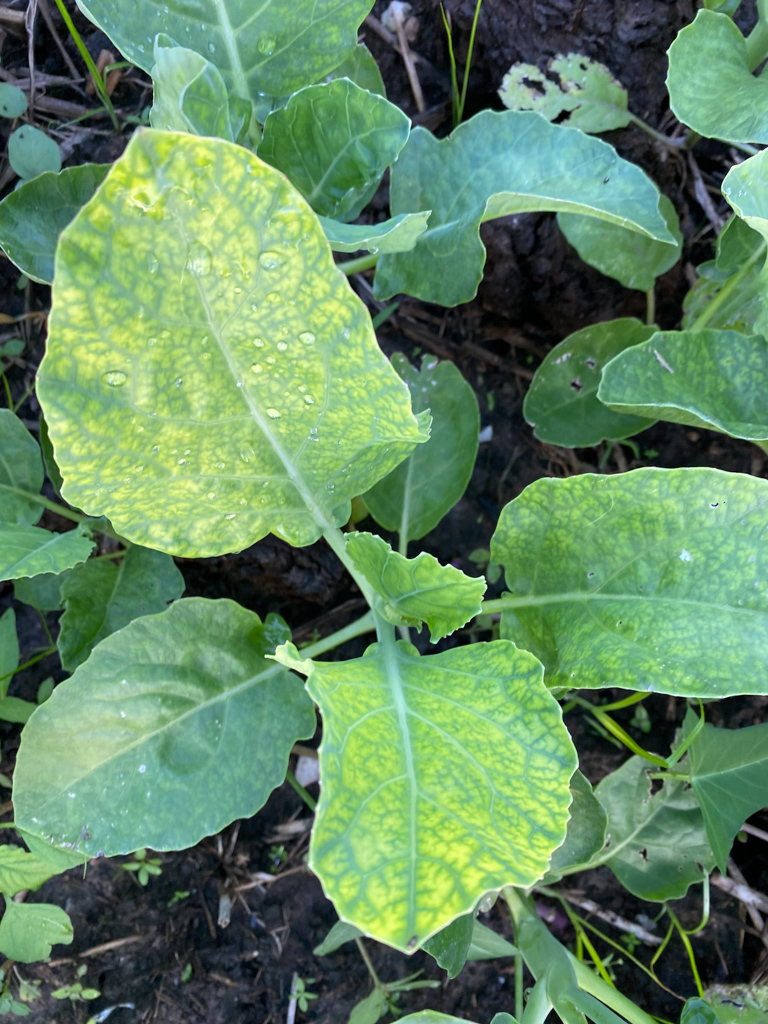Pepper yellow leaf: (43, 123, 407, 561), (297, 674, 575, 945)
